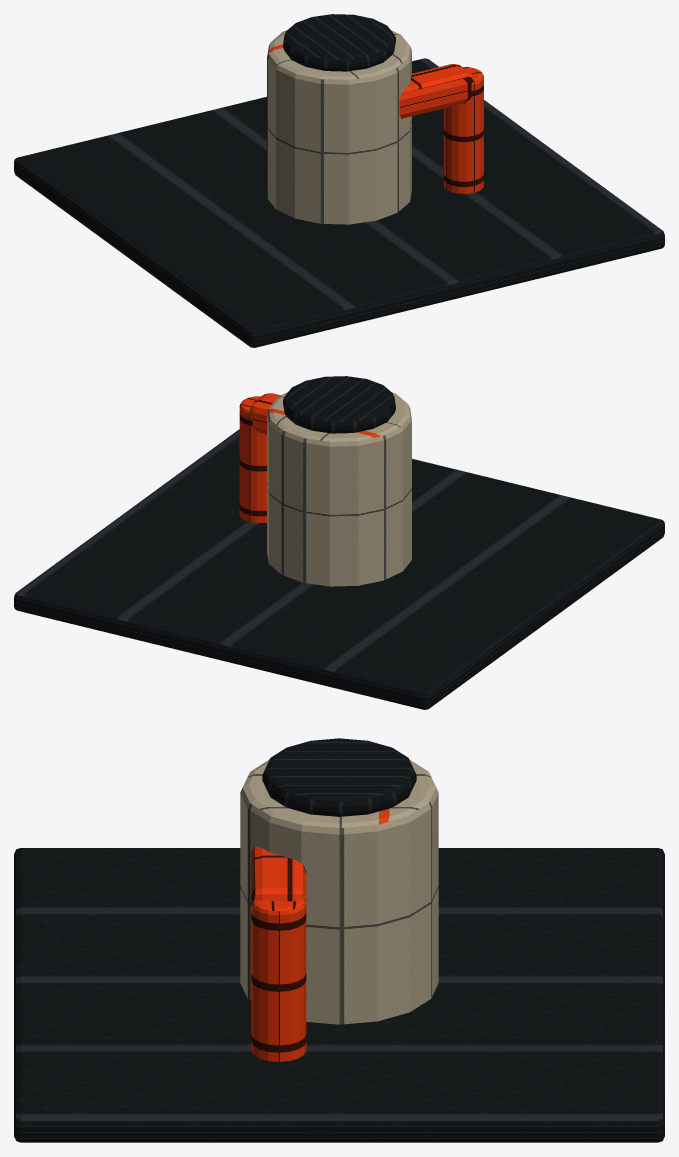
The model's file is roof_life_support_exhaust.glb.
The picture shows the model from 3 angles, top to bottom: view 1: azimuth 30°, elevation 25°; view 2: azimuth 150°, elevation 25°; view 3: azimuth 270°, elevation 25°; orthographic projection. The views are drawn at different scales.
Visible parts, largest first — view 1: Removable roof mounting plate.003, Exhaust housing, Exhaust grille, Service pipe, Pipe bridge; view 2: Removable roof mounting plate.003, Exhaust housing, Exhaust grille, Service pipe, Pipe bridge; view 3: Removable roof mounting plate.003, Exhaust housing, Exhaust grille, Service pipe, Pipe bridge.
Part boxes in pixels (x1,y1,x2,y2): Removable roof mounting plate.003: (14, 58, 664, 347); Exhaust housing: (267, 30, 411, 224); Exhaust grille: (283, 14, 395, 71); Service pipe: (443, 67, 483, 193); Pipe bridge: (399, 64, 473, 118); Removable roof mounting plate.003: (14, 429, 664, 709); Exhaust housing: (267, 392, 411, 586); Exhaust grille: (283, 376, 395, 433); Service pipe: (239, 396, 266, 523); Pipe bridge: (249, 393, 280, 434); Removable roof mounting plate.003: (14, 848, 664, 1142); Exhaust housing: (240, 759, 438, 1024); Exhaust grille: (262, 738, 416, 816); Service pipe: (251, 900, 306, 1061); Pipe bridge: (251, 846, 306, 902).
Size of the model in its own units: 2.36 by 0.96 by 2.36.
Materials: 3 (3 with a texture image).
